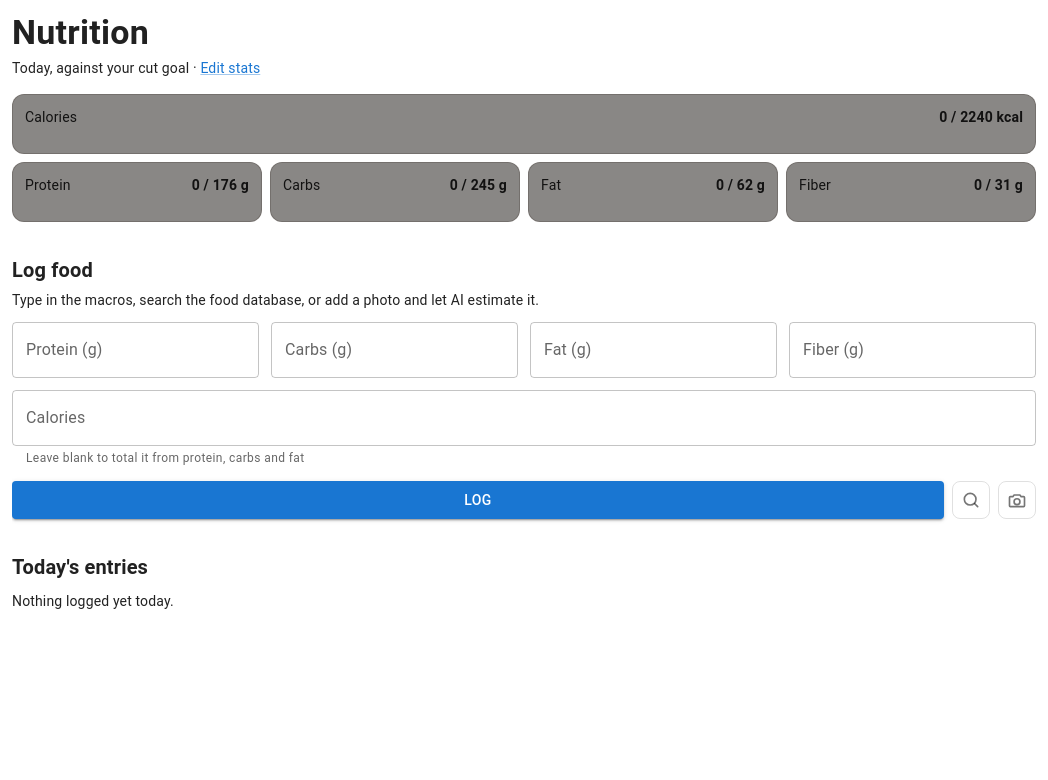
Test: CaloricConsistencyPage — log food › previews the calorie total from macros as the Calories placeholder
This screenshot has width=1048, height=780.
Step 1. Type "40" into the field labelled "Protein (g)" → x=136, y=350, box [12, 322, 259, 378]
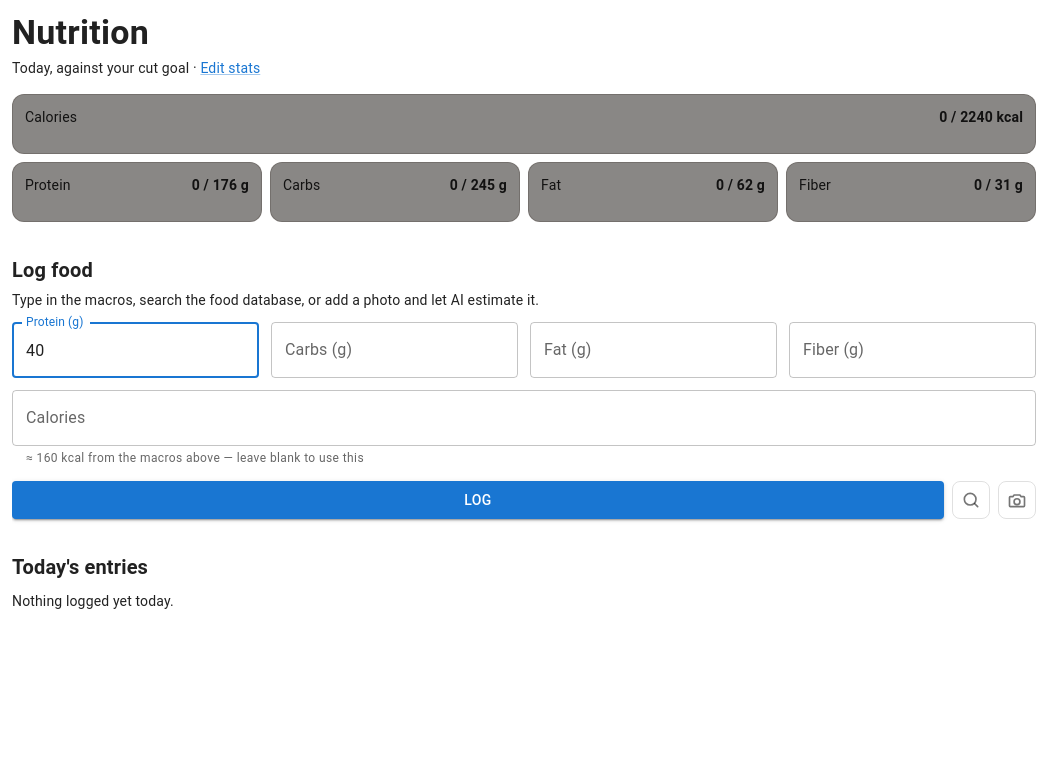
Step 2. Type "50" into the field labelled "Carbs (g)" → x=394, y=350, box [271, 322, 518, 378]
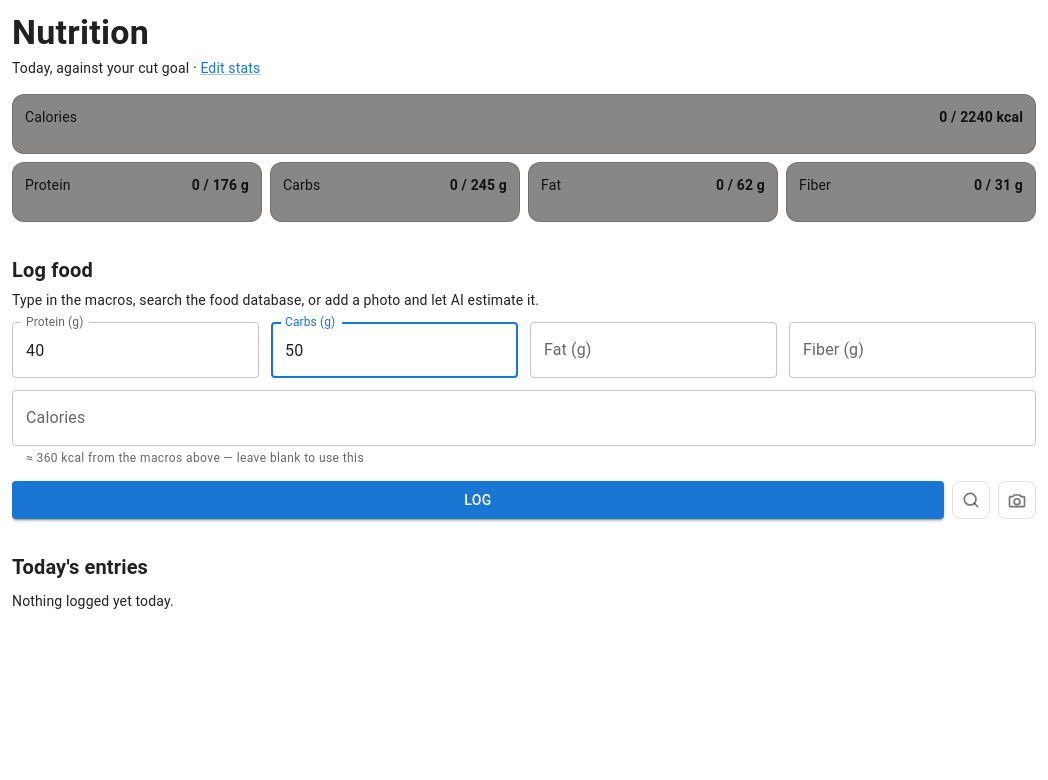
Step 3. Type "20" into the field labelled "Fat (g)" → x=654, y=350, box [530, 322, 777, 378]
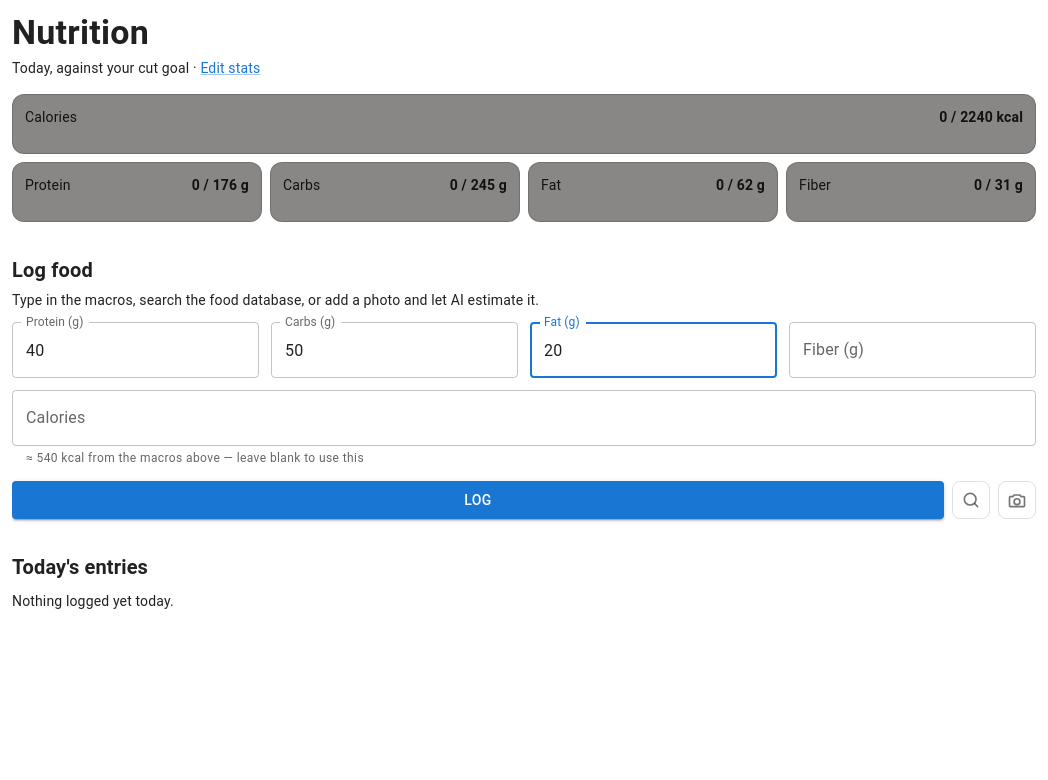
Expected: the text "≈ 540 kcal from the macros above — leave blank to use this" is shown, [26, 451, 364, 465]
